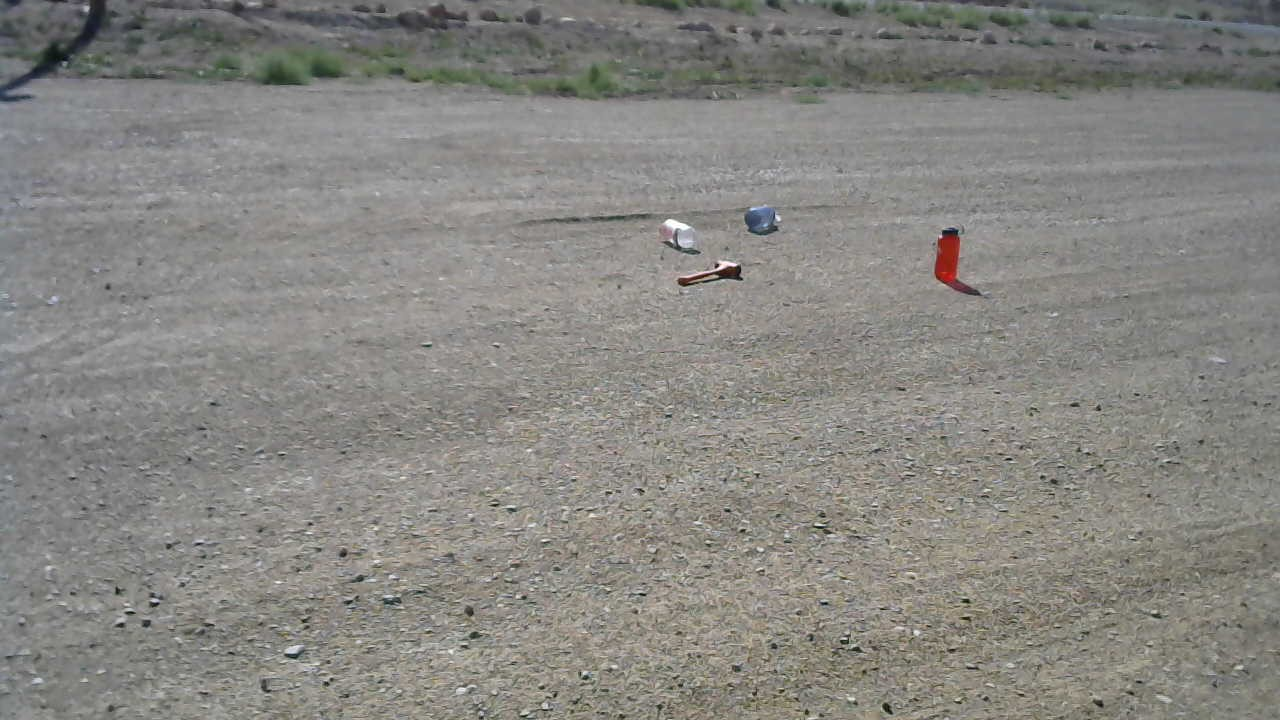bottle: (931, 220, 966, 287), (655, 216, 698, 251), (743, 203, 782, 237)
hammer: (673, 259, 743, 286)
